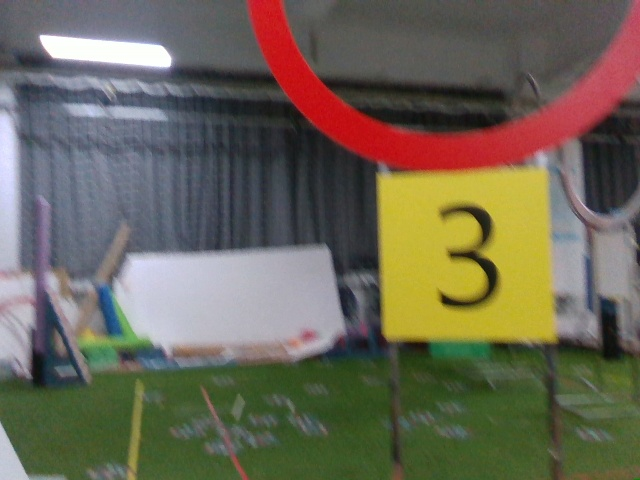target: (385, 169, 536, 336)
